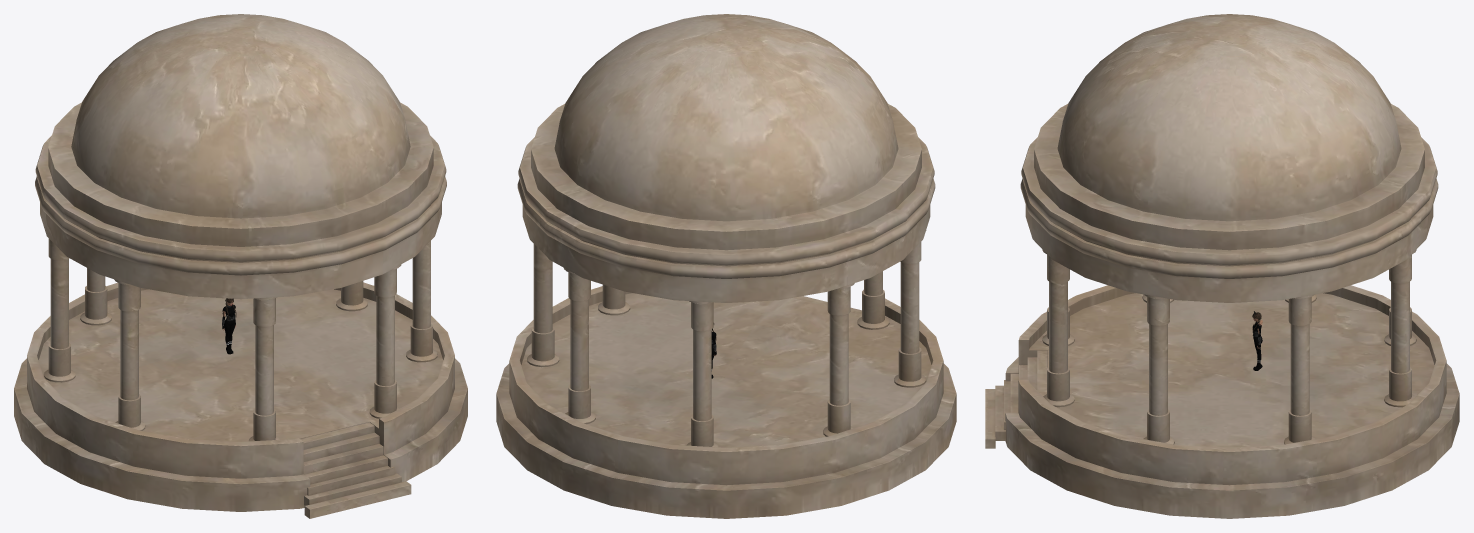
3 renders of one model, left to right at view 1: azimuth 30°, elevation 25°; view 2: azimuth 150°, elevation 25°; view 3: azimuth 270°, elevation 25°, orthographic.
Visible parts, largest first — view 1: dome; view 2: dome; view 3: dome.
Part boxes in pixels (left/top/right/bottom): dome: left=14, top=14, right=467, bottom=518; dome: left=496, top=14, right=956, bottom=518; dome: left=985, top=14, right=1459, bottom=518.
Bounding box in the file's own units: 18.28 × 17.05 × 18.84.
Materials: 20 (16 with a texture image).
